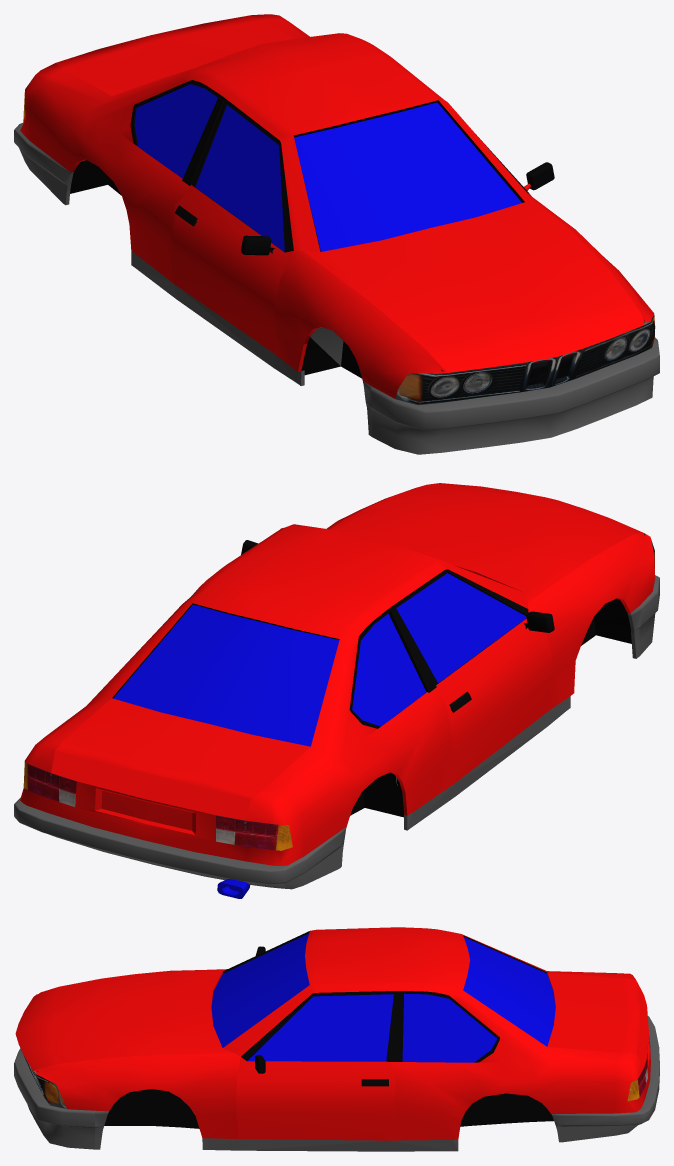
The model's file is BMW.fbx.
3 renders of one model, top to bottom at view 1: azimuth 30°, elevation 25°; view 2: azimuth 150°, elevation 25°; view 3: azimuth 270°, elevation 25°, orthographic. The views are drawn at different scales.
Visible parts, largest first — view 1: polySurface11; view 2: polySurface11; view 3: polySurface11.
Boxes of the visible parts, box(x1,y1,x2,y2) form: polySurface11: box(14, 14, 659, 454); polySurface11: box(14, 483, 659, 898); polySurface11: box(14, 927, 659, 1151).
Bounding box in the file's own units: 124 × 76.13 × 291.
7 materials, 3 textured.
